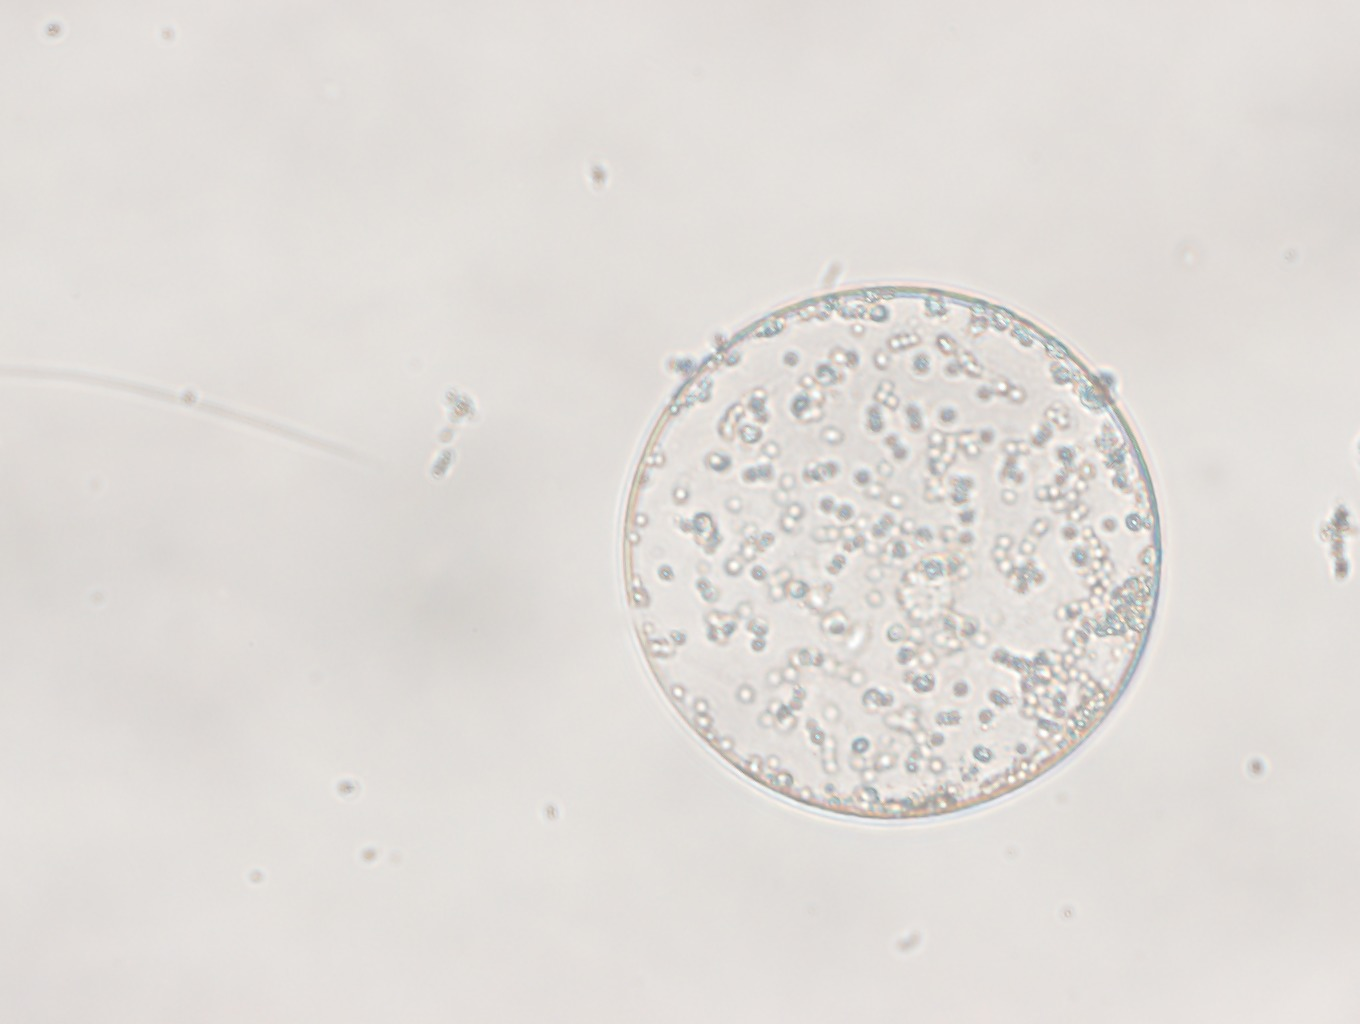coscinodiscus: (620, 283, 1164, 821)
